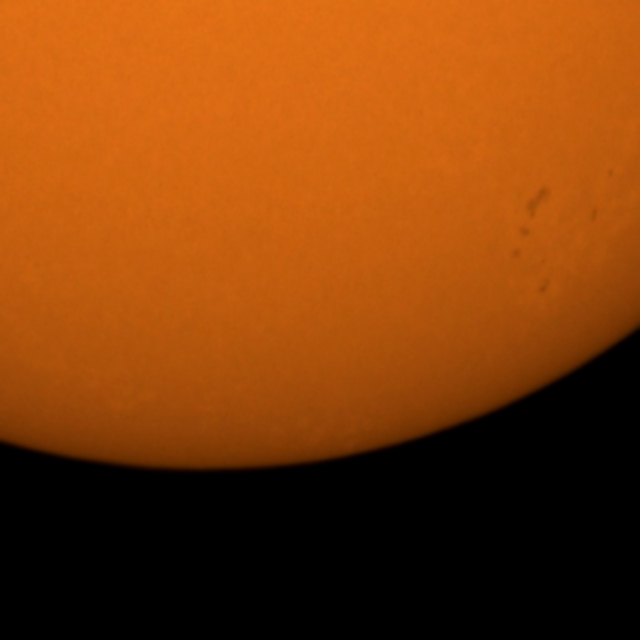sunspot: (518, 184, 555, 226), (508, 224, 532, 264), (535, 278, 550, 298), (509, 245, 524, 262), (588, 204, 600, 225), (604, 166, 616, 181)
